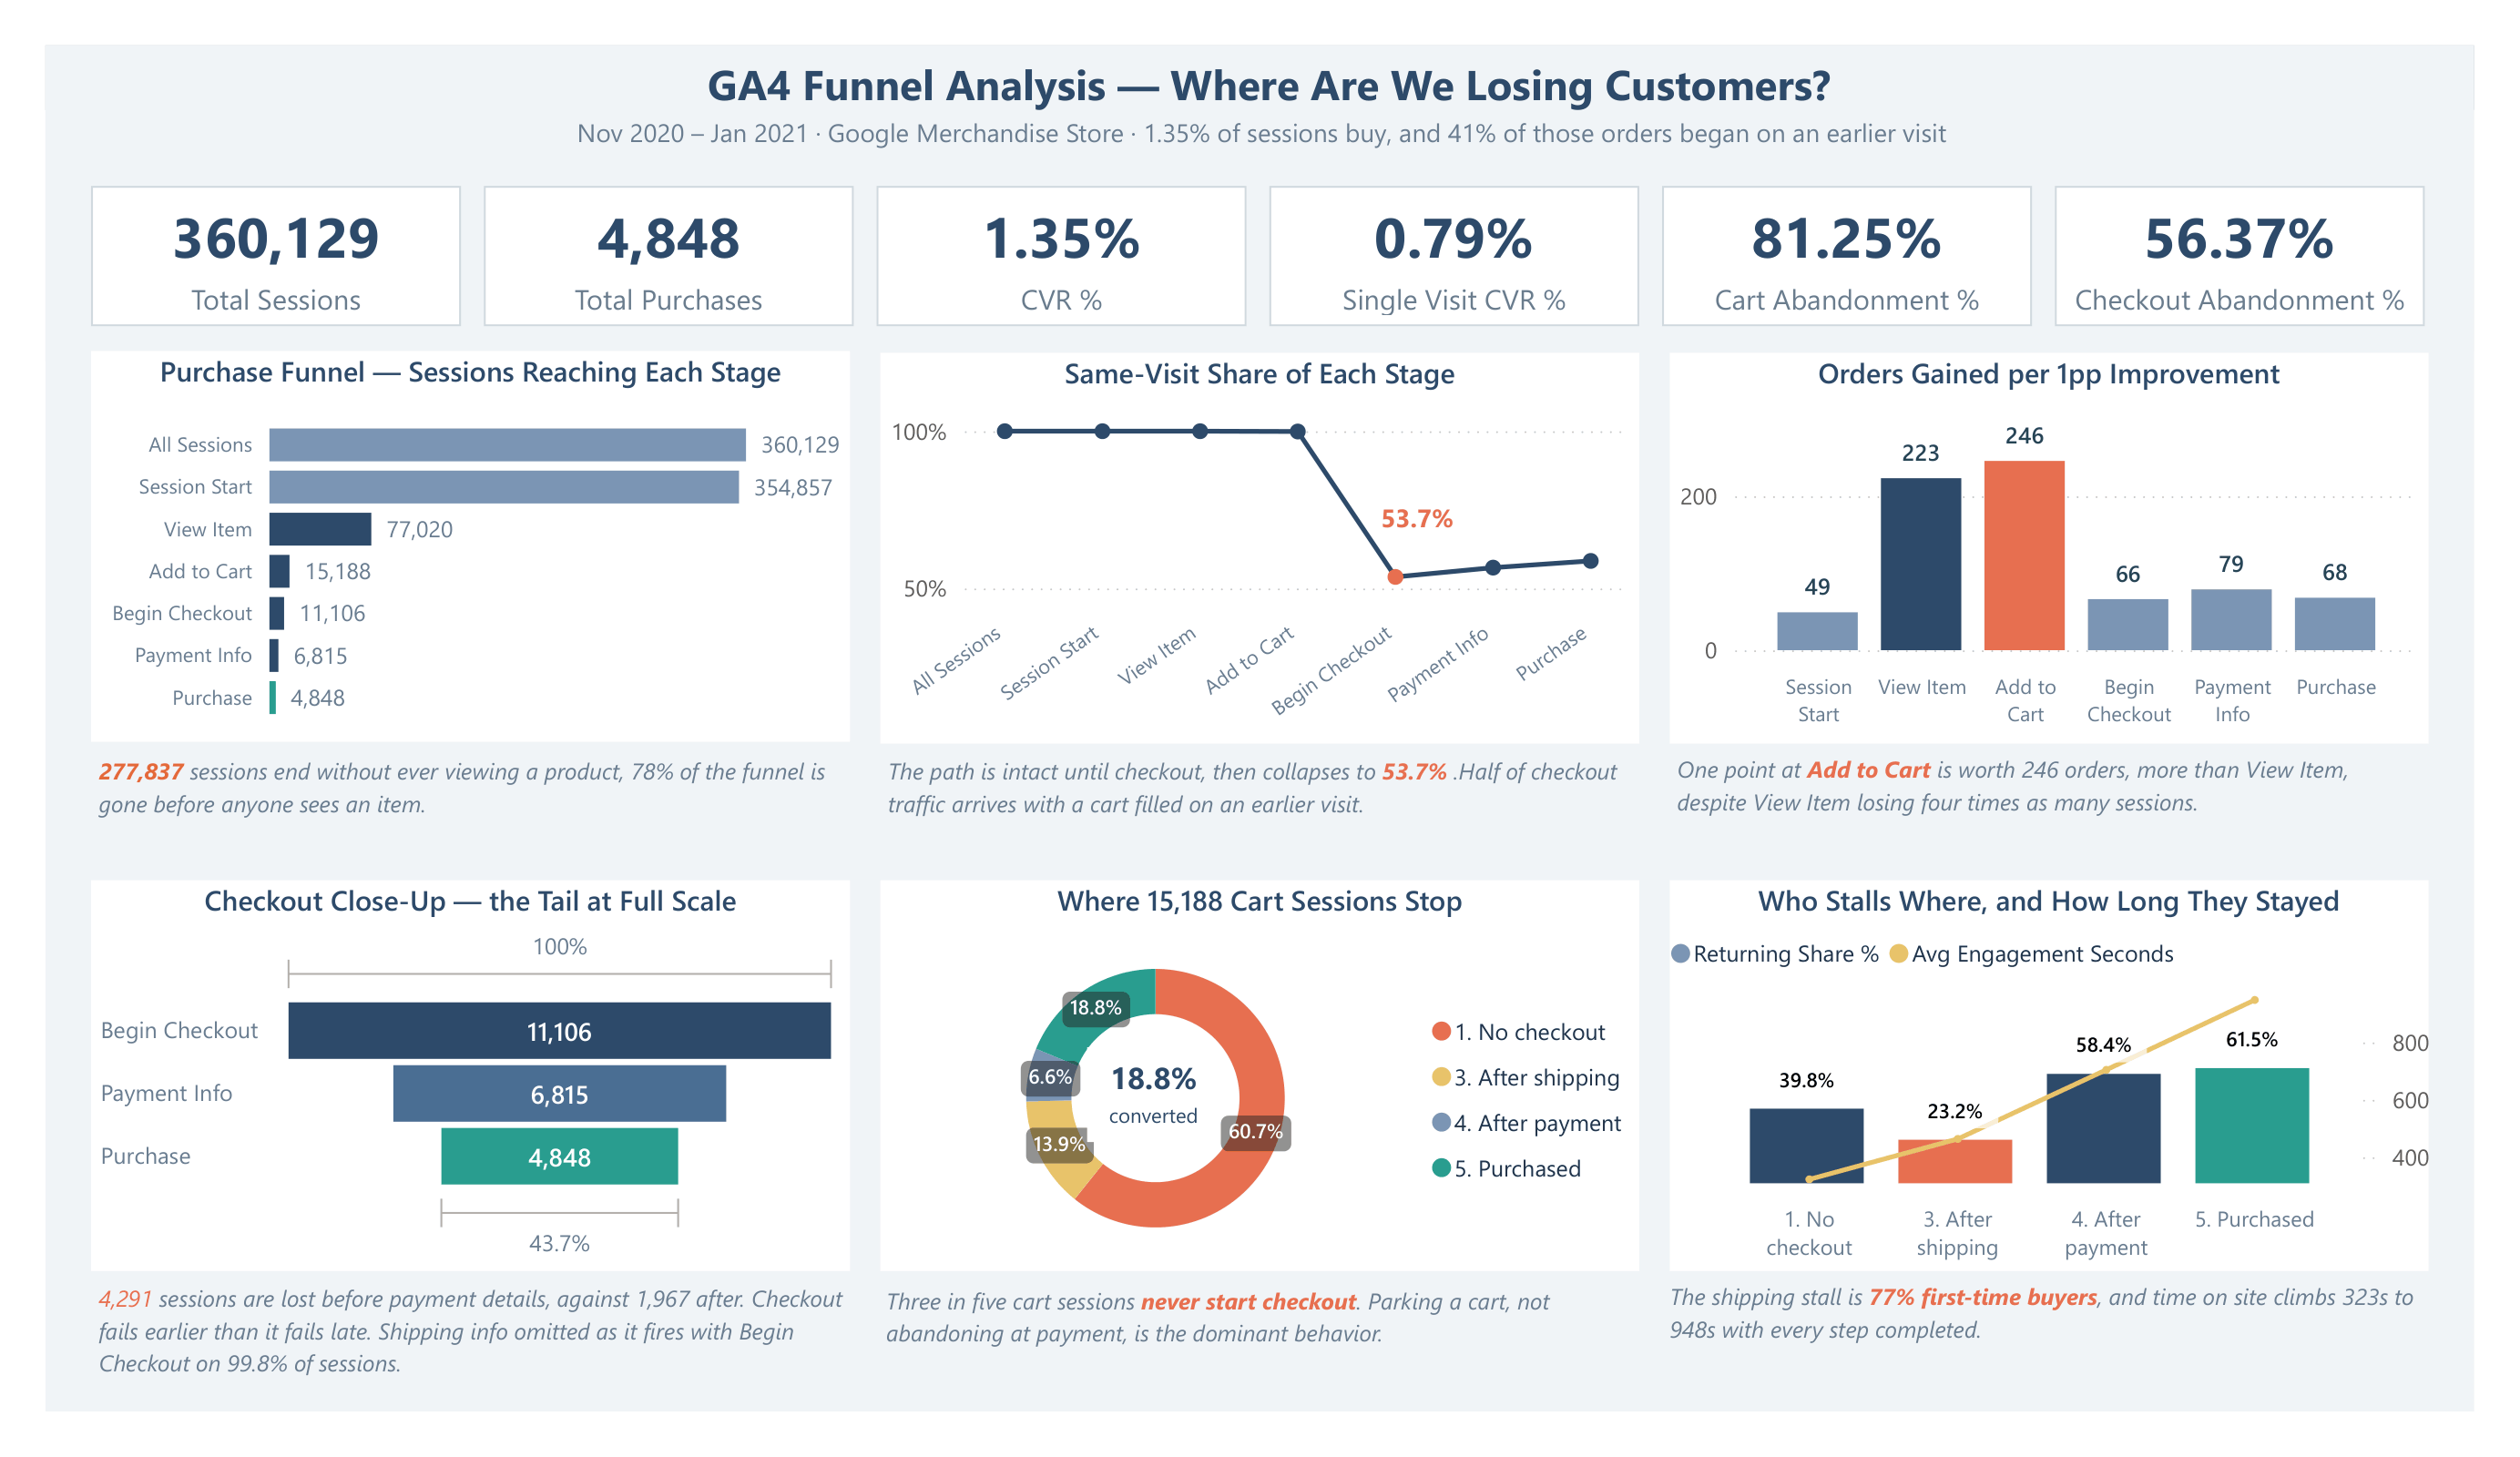

This screenshot's page, from the dashboard's own definition file:
{"tool":"powerbi","page":{"name":"Funnel & Traffic Overview","canvas":[1280,720],"ordinal":0},"visuals":[{"type":"textbox","box":[10.2,0,1268.5,98.2],"z":0},{"type":"card","fields":{"Values":["_Measures.Total Sessions"]},"box":[43.5,97.9,198.3,84.6],"z":1000},{"type":"textbox","box":[6.1,49.1,1268.5,32.7],"z":2000},{"type":"card","fields":{"Values":["_Measures.Total Purchases"]},"box":[289,97.9,201.9,84.6],"z":3000},{"type":"card","fields":{"Values":["_Measures.Total Revenue"]},"box":[534.4,97.9,199.5,84.6],"z":4000},{"type":"card","fields":{"Values":["_Measures.CVR %"]},"box":[779.9,97.9,187.4,84.6],"z":5000},{"type":"card","fields":{"Values":["_Measures.Revenue per Session"]},"box":[1025.3,97.9,192.3,84.6],"z":6000},{"type":"clusteredColumnChart","title":"Purchase Funnel — Where Visitors Drop Off","fields":{"Category":["funnel_analysis.funnel_stage"],"Y":["Sum(funnel_analysis.sessions)"]},"box":[42.9,235.7,398.6,361.4],"z":7000},{"type":"lineStackedColumnComboChart","title":"Monthly Traffic vs Conversion Rate","fields":{"Category":["monthly_trends.year_month"],"Y":["Sum(monthly_trends.total_sessions)"],"Y2":["Sum(monthly_trends.cvr_pct)"]},"box":[464.3,477.1,341.4,200],"z":8000},{"type":"scatterChart","title":"Channel Quality — Sessions vs Revenue per Session","fields":{"X":["channel_attribution.sessions"],"Y":["channel_attribution.revenue_per_session"],"Series":["channel_attribution.channel"],"Size":["Sum(channel_attribution.revenue)"]},"box":[832.9,477.1,400,188.6],"z":9000},{"type":"textbox","box":[42.9,597.1,398.6,52.9],"z":10000},{"type":"textbox","box":[832.7,667,401,53.2],"z":11000},{"type":"textbox","box":[463.5,666.7,341.3,54],"z":12000},{"type":"textbox","box":[0,182.5,1274.6,33.3],"z":13000},{"type":"donutChart","title":"Revenue Share by Channel","fields":{"Category":["channel_attribution.channel"],"Y":["Sum(channel_attribution.revenue)"]},"box":[465.7,237.1,341.4,180],"z":14000},{"type":"clusteredBarChart","title":"CVR% by Channel","fields":{"Category":["master_events.channel"],"Y":["_Measures.CVR %"]},"box":[834.3,235.7,398.6,181.4],"z":15000},{"type":"textbox","box":[462.9,418.6,341.4,47.1],"z":16000},{"type":"textbox","box":[42.9,650,388.6,70],"z":17000},{"type":"textbox","box":[834.3,417.1,400,48.6],"z":18000}]}

Visuals, with their boxes on the page's 1280x720 design canvas (x1, y1, x2, y2). These are canvas units, not pixel positions in the 2520x1457 screenshot, which may show the page scaled, cropped or inside an application window:
textbox: <bbox>10, 0, 1279, 98</bbox>
card - _Measures.Total Sessions: <bbox>44, 98, 242, 182</bbox>
textbox: <bbox>6, 49, 1275, 82</bbox>
card - _Measures.Total Purchases: <bbox>289, 98, 491, 182</bbox>
card - _Measures.Total Revenue: <bbox>534, 98, 734, 182</bbox>
card - _Measures.CVR %: <bbox>780, 98, 967, 182</bbox>
card - _Measures.Revenue per Session: <bbox>1025, 98, 1218, 182</bbox>
"Purchase Funnel — Where Visitors Drop Off" clusteredColumnChart: <bbox>43, 236, 442, 597</bbox>
"Monthly Traffic vs Conversion Rate" lineStackedColumnComboChart: <bbox>464, 477, 806, 677</bbox>
"Channel Quality — Sessions vs Revenue per Session" scatterChart: <bbox>833, 477, 1233, 666</bbox>
textbox: <bbox>43, 597, 442, 650</bbox>
textbox: <bbox>833, 667, 1234, 720</bbox>
textbox: <bbox>464, 667, 805, 721</bbox>
textbox: <bbox>0, 182, 1275, 216</bbox>
"Revenue Share by Channel" donutChart: <bbox>466, 237, 807, 417</bbox>
"CVR% by Channel" clusteredBarChart: <bbox>834, 236, 1233, 417</bbox>
textbox: <bbox>463, 419, 804, 466</bbox>
textbox: <bbox>43, 650, 432, 720</bbox>
textbox: <bbox>834, 417, 1234, 466</bbox>
